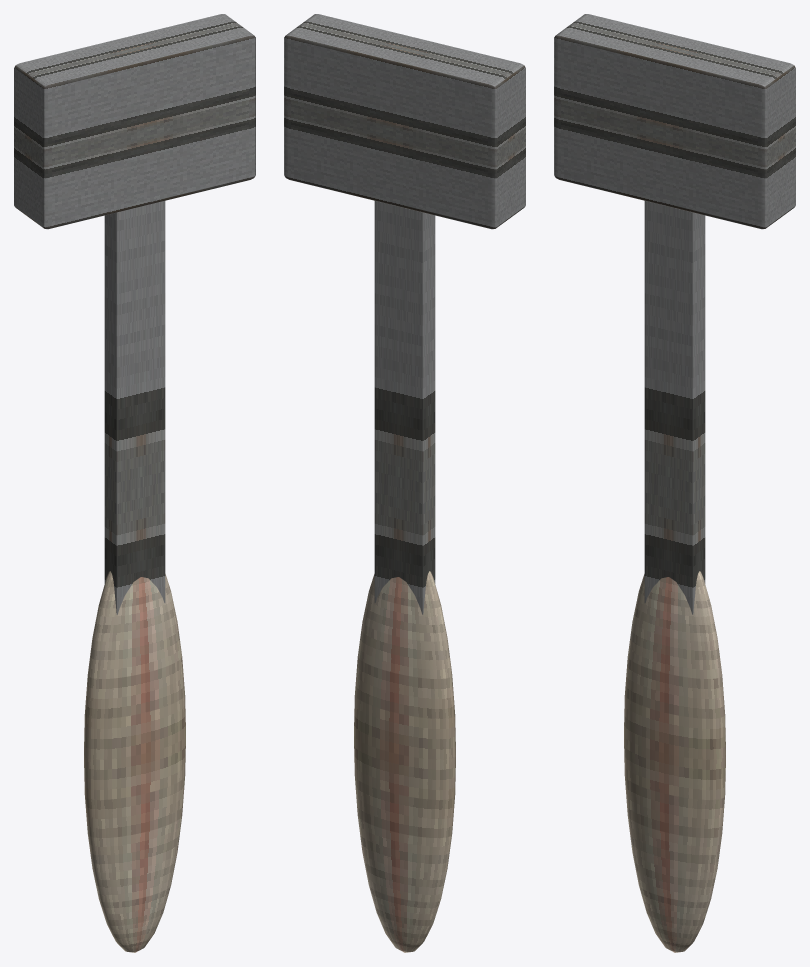
The model's file is wash-brush.glb.
3 renders of one model, left to right at view 1: azimuth 30°, elevation 25°; view 2: azimuth 150°, elevation 25°; view 3: azimuth 330°, elevation 25°, orthographic.
Parts seen in each view (by area): view 1: head, grip, shaft; view 2: head, grip, shaft; view 3: head, grip, shaft.
Part boxes in pixels (bbox=[...]): head: bbox=[14, 14, 255, 229]; grip: bbox=[84, 571, 185, 952]; shaft: bbox=[104, 201, 165, 614]; head: bbox=[284, 14, 525, 229]; grip: bbox=[354, 571, 455, 952]; shaft: bbox=[374, 201, 435, 614]; head: bbox=[554, 14, 795, 229]; grip: bbox=[624, 571, 725, 952]; shaft: bbox=[644, 201, 705, 614].
Size of the model in its own units: 0.34 by 1.38 by 0.085.
Materials: 2 (2 with a texture image).
